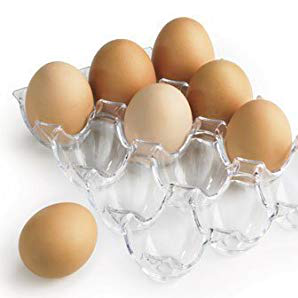egg: (25, 18, 293, 172), (17, 202, 99, 280)
